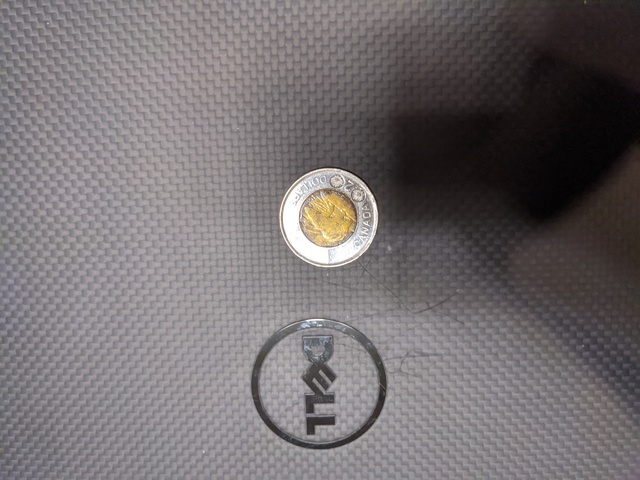twonie: (274, 170, 392, 268)
